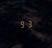nine: (19, 20, 25, 28)
three: (26, 19, 32, 27)
